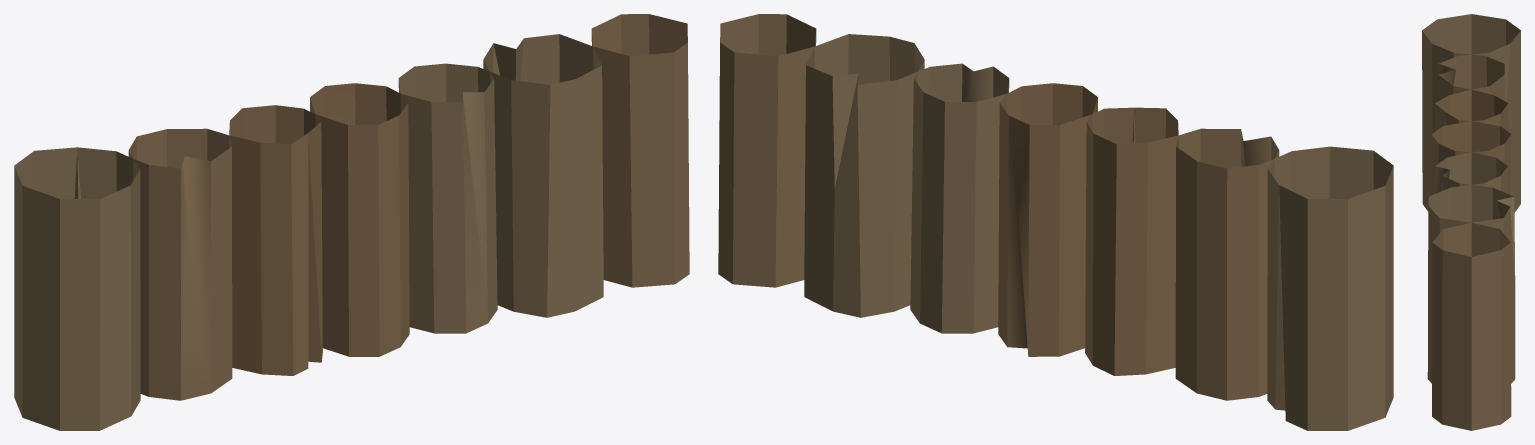
File: rpgpp_ag_wall_02_3x1_b.fbx
3 renders of one model, left to right at view 1: azimuth 30°, elevation 25°; view 2: azimuth 150°, elevation 25°; view 3: azimuth 270°, elevation 25°, orthographic. The views are drawn at different scales.
Parts seen in each view (by area): view 1: rpgpp_ag_wall_02_3x1_b; view 2: rpgpp_ag_wall_02_3x1_b; view 3: rpgpp_ag_wall_02_3x1_b.
Boxes of the visible parts, left/top/right/bottom form: rpgpp_ag_wall_02_3x1_b: left=14, top=14, right=689, bottom=430; rpgpp_ag_wall_02_3x1_b: left=718, top=14, right=1393, bottom=430; rpgpp_ag_wall_02_3x1_b: left=1422, top=14, right=1520, bottom=430.
Bounding box in the file's own units: 3 × 1.01 × 0.5158.
